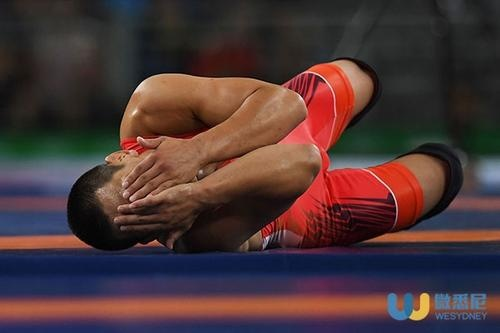falling: (55, 34, 460, 264)
